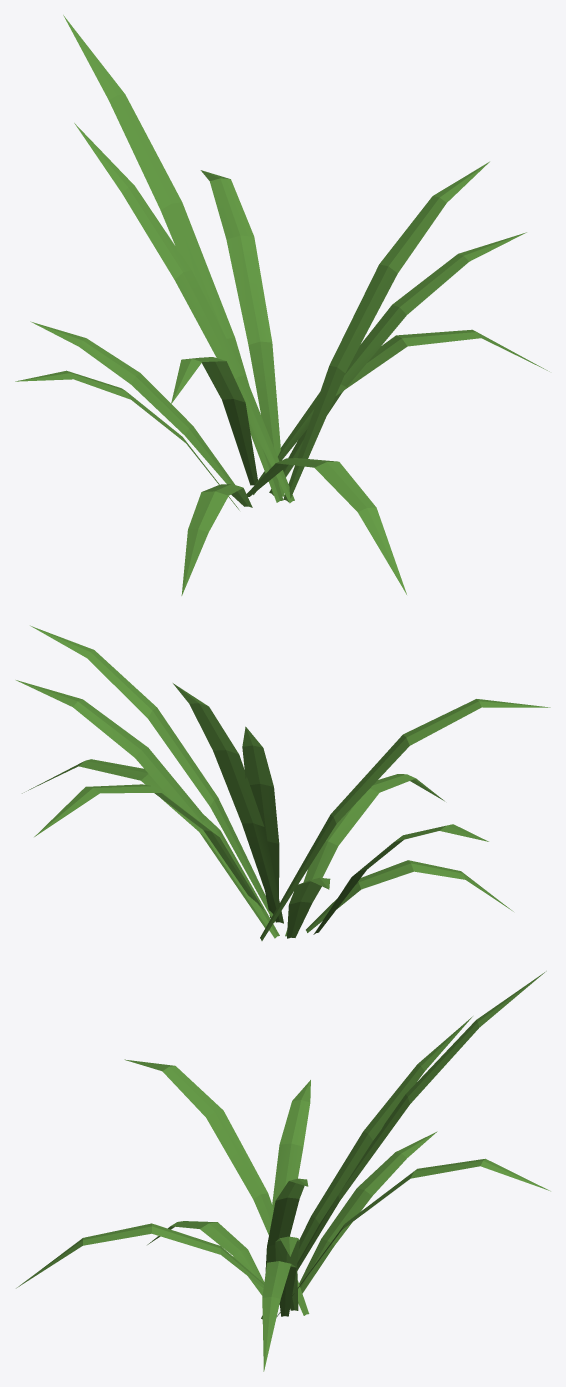
Rendered from FiberPlant.fbx.
The picture shows the model from 3 angles, top to bottom: view 1: azimuth 30°, elevation 25°; view 2: azimuth 150°, elevation 25°; view 3: azimuth 270°, elevation 25°; orthographic projection. The views are drawn at different scales.
Visible parts, largest first — view 1: FiberPlant; view 2: FiberPlant; view 3: FiberPlant.
Part boxes in pixels (<box>): FiberPlant: <box>15,15,549,595</box>; FiberPlant: <box>16,625,550,940</box>; FiberPlant: <box>16,971,550,1371</box>.
Size of the model in its own units: 2.04 by 1.46 by 2.19.
